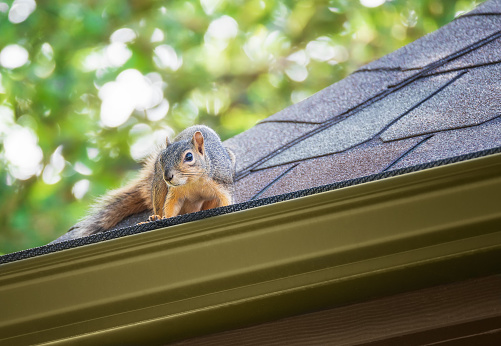squirrel: (123, 124, 240, 216)
